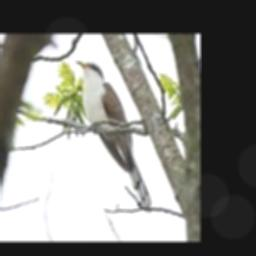Cuckoo: (74, 60, 150, 207)
